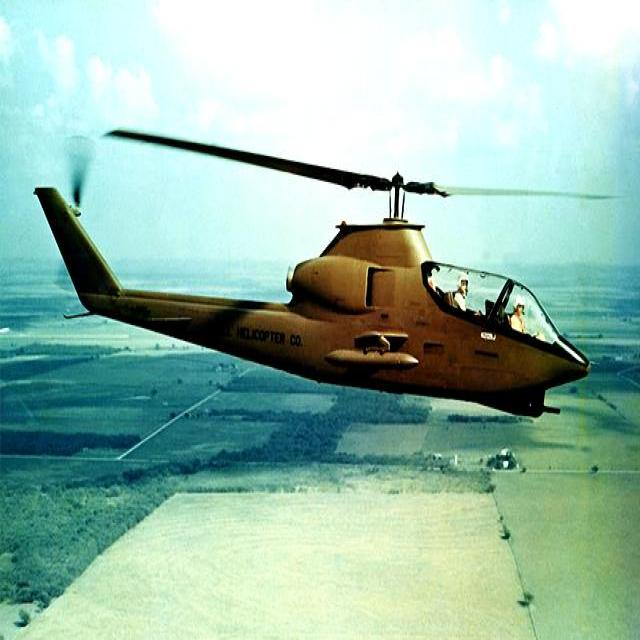MIL_HELO: (36, 112, 634, 441)
